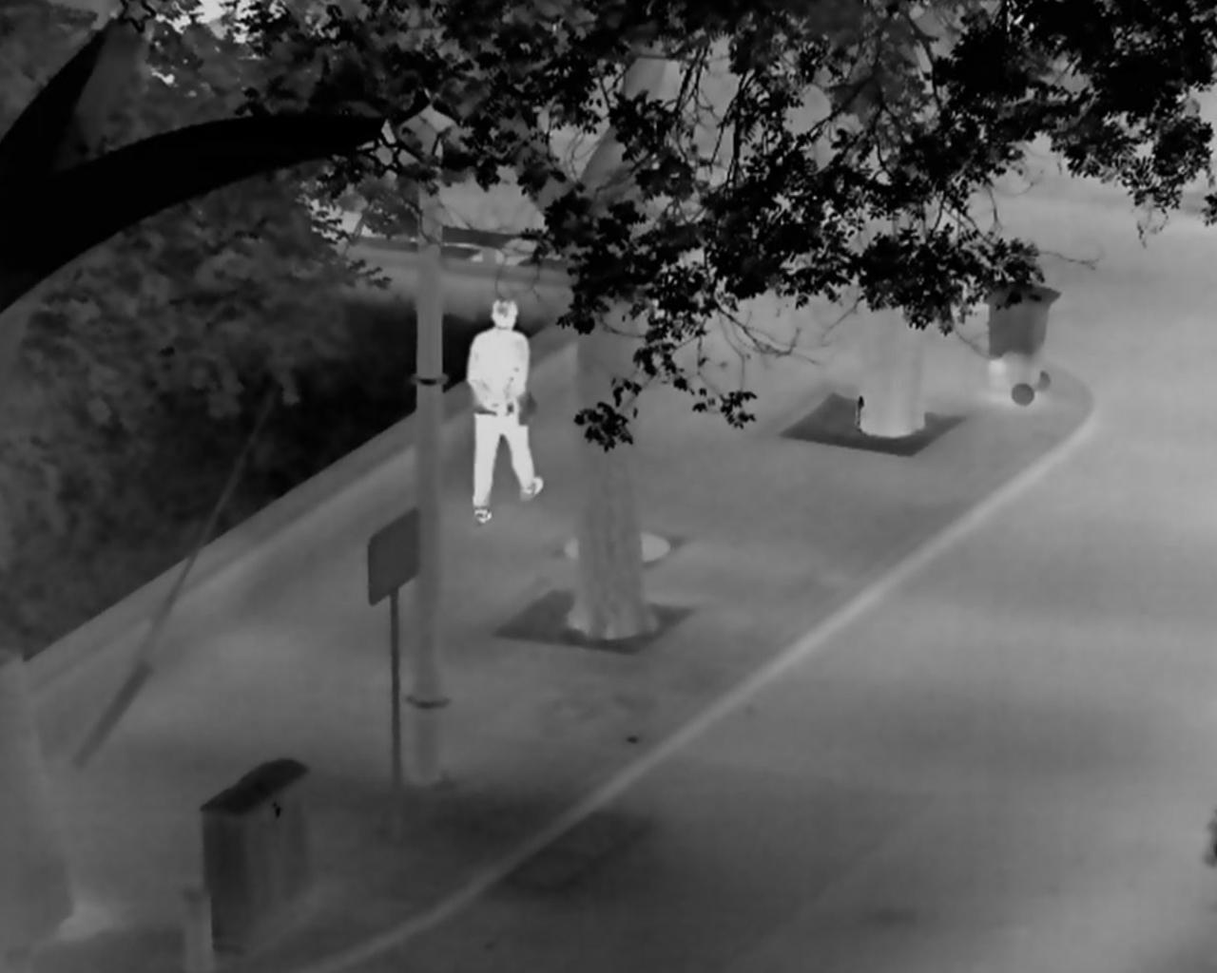person: (465, 298, 545, 525)
